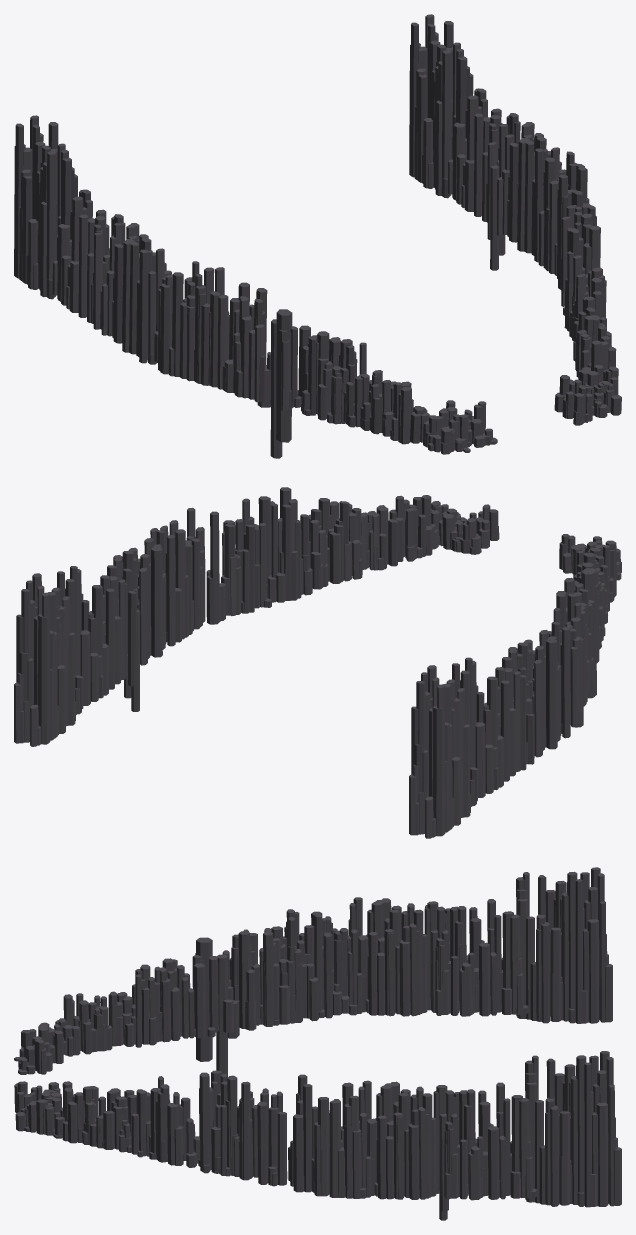
File: basalt_walls.gltf
The picture shows the model from 3 angles, top to bottom: view 1: azimuth 30°, elevation 25°; view 2: azimuth 150°, elevation 25°; view 3: azimuth 270°, elevation 25°; orthographic projection. The views are drawn at different scales.
Visible parts, largest first — view 1: basalt walls realized.867; view 2: basalt walls realized.867; view 3: basalt walls realized.867.
Part boxes in pixels (left/top/right/bottom): basalt walls realized.867: left=14, top=14, right=621, bottom=458; basalt walls realized.867: left=14, top=487, right=621, bottom=838; basalt walls realized.867: left=14, top=867, right=621, bottom=1220.
Size of the model in its own units: 139 by 62.37 by 178.
1 material, 1 textured.
